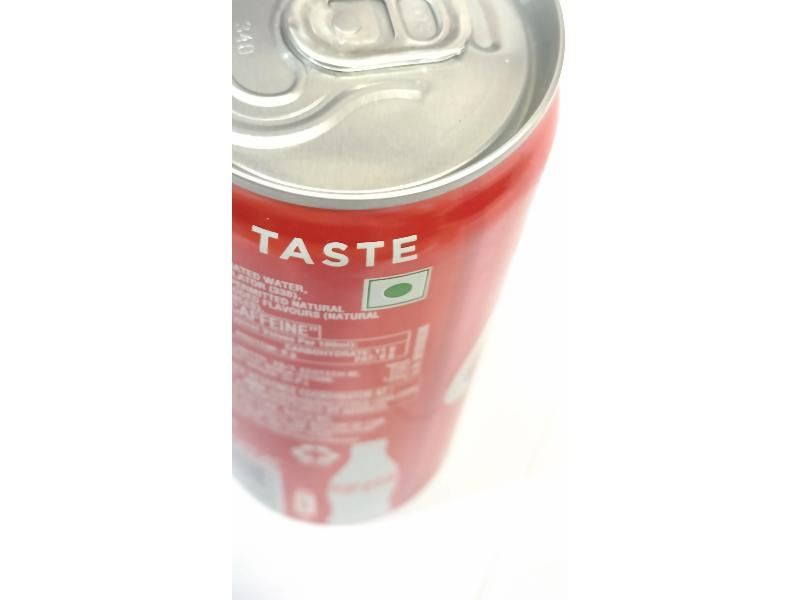can: (229, 0, 566, 522)
